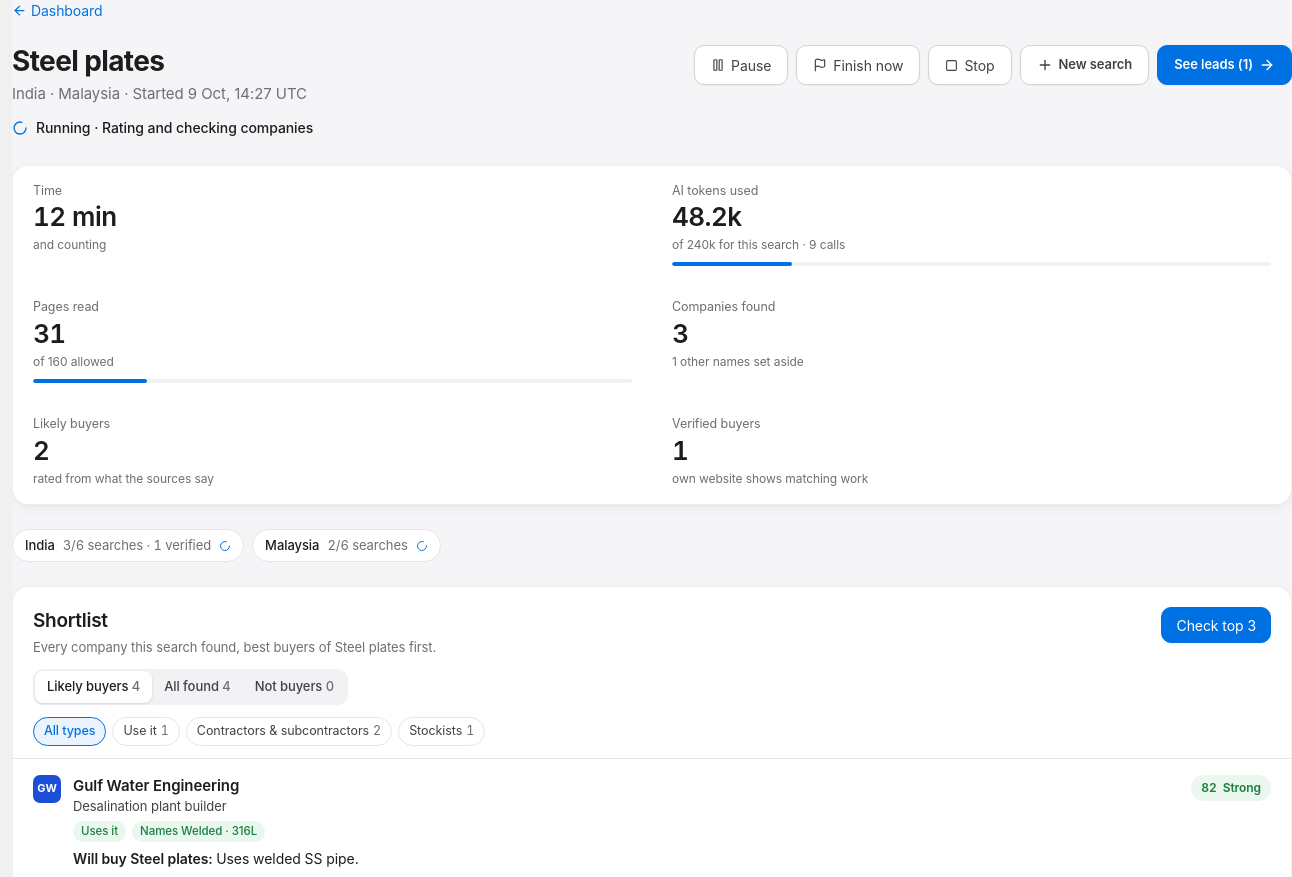
Test case: Search workspace (docs/mvp/18 §4) › filters by buyer type, labels each company and shows every country's progress (docs/mvp/19)
The width and height of the screenshot is (1292, 877).
Expected: the text "3/6 searches · 1 verified" is shown, [63,536,211,555]
Click the button "Contractors & subcontractors2" at (289, 731), box [186,717,392,746]
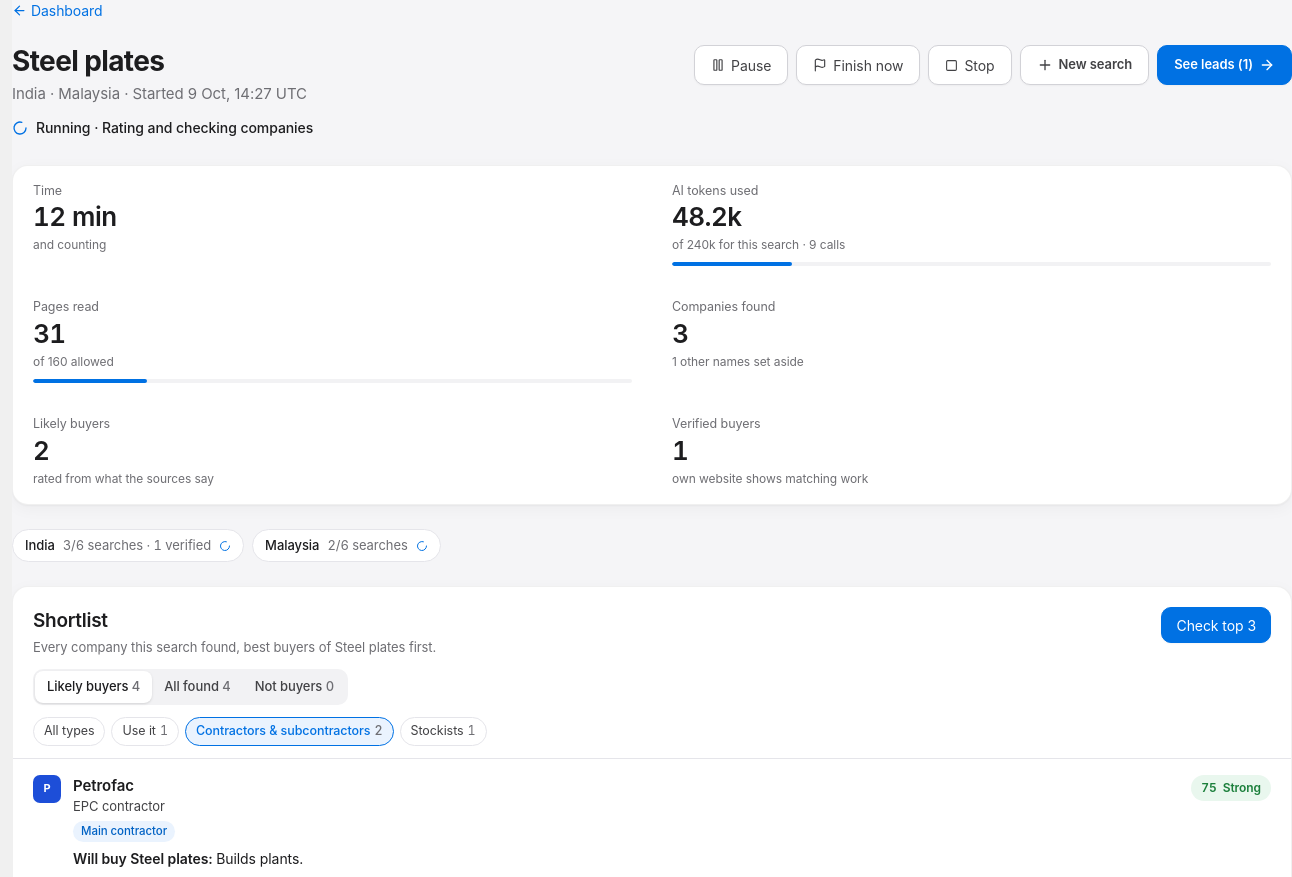
Click the button "Stockists1" at (443, 731), box [400,717,487,746]
(page scrolled)
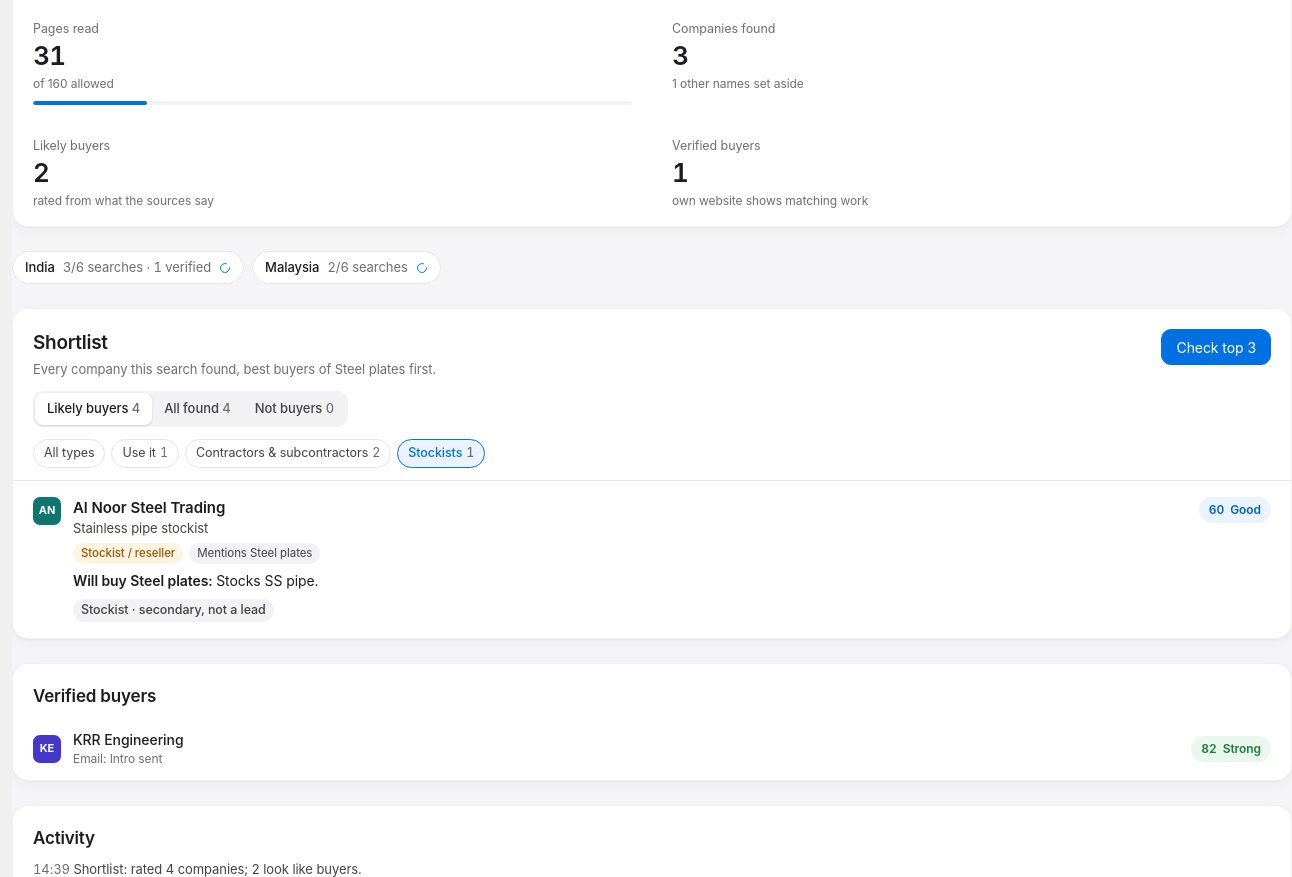
Result: the list item with test id "shortlist-row" shows "Stockist / reseller" at [81,546,175,560]
